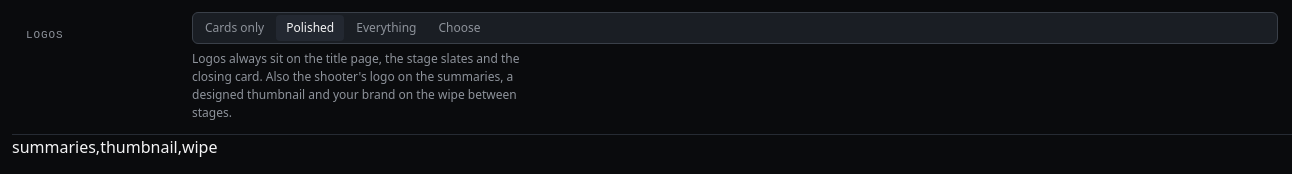
Test: LogoPlanField › Cards only clears every spot
Click the button "Cards only": {"x": 235, "y": 28} [195,15,274,41]
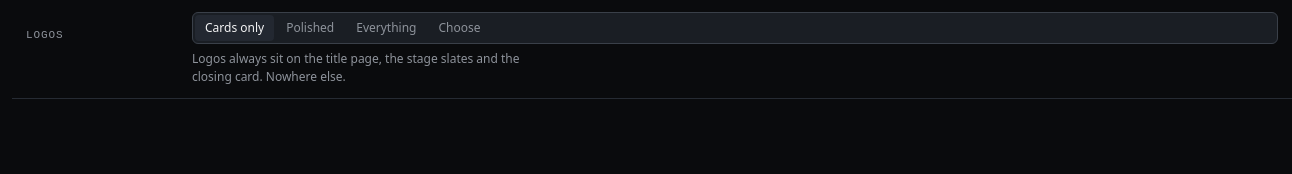
Expected: the text "Nowhere else." is shown, [192,50,520,85]
